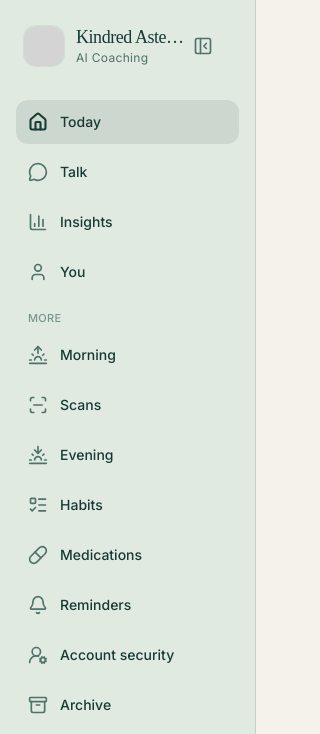
Test case: AppLayout › keeps every collapsed destination named for screen readers
The width and height of the screenshot is (320, 734).
Click the button with test id "sidebar-toggle" at (209, 46), box [187,24,231,68]
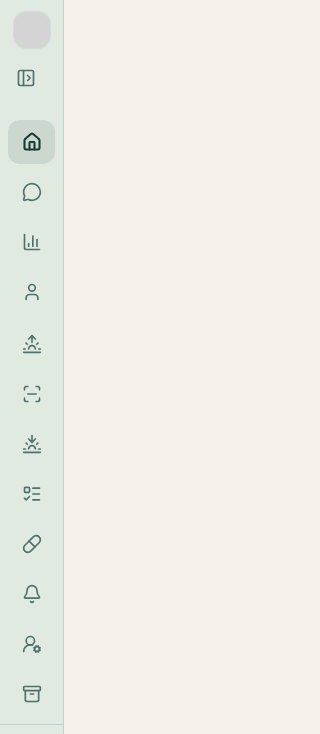
Expected: the button with test id "sidebar-toggle" is collapsed, [10,56,54,100]
